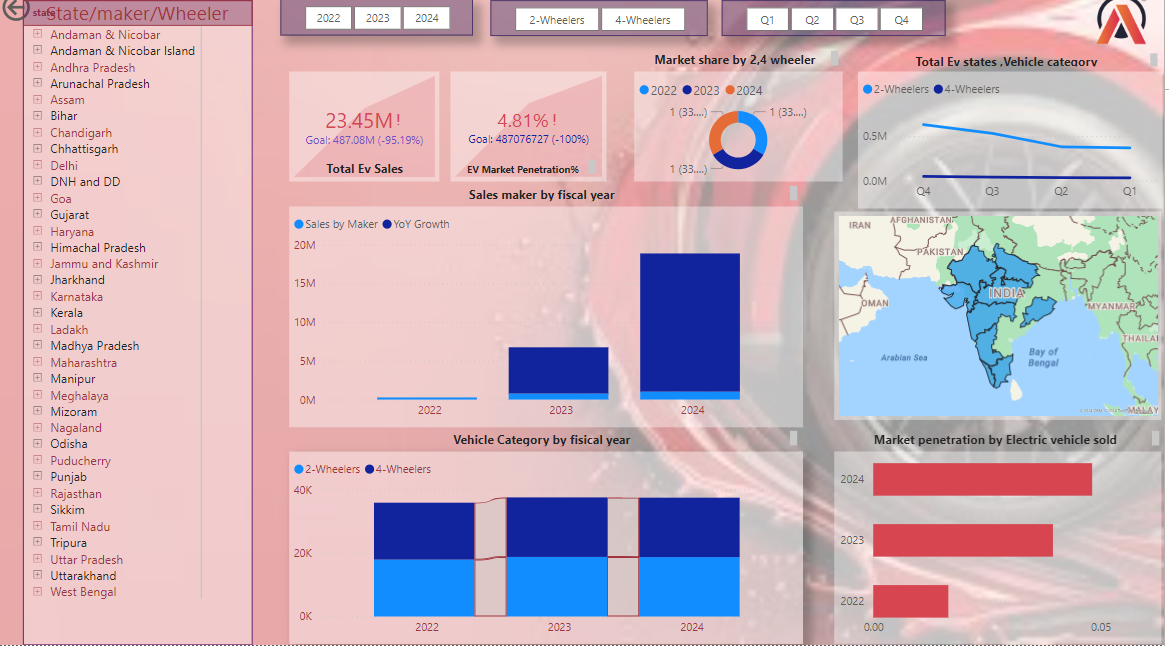

Layout of this report page (visuals, bound fields, positions):
{"tool":"powerbi","page":{"name":"Anlysis","canvas":[1280,720],"ordinal":0},"visuals":[{"type":"slicer","fields":{"Values":["electric_vehicle_sales_by_state.vehicle_category"]},"box":[540.5,12.2,238.5,39.1],"z":0},{"type":"slicer","fields":{"Values":["dim_date.fiscal_year"]},"box":[310.6,11,211.6,40.4],"z":1000},{"type":"slicer","fields":{"Values":["dim_date.quarter"]},"box":[794.8,12.2,245.8,39.1],"z":2000},{"type":"lineChart","fields":{"Y":["Measure.Total Ev sales by state"],"Category":["dim_date.quarter"],"Series":["electric_vehicle_sales_by_makers.vehicle_category"]},"box":[944,90.5,333.8,145.5],"z":3000},{"type":"columnChart","fields":{"Category":["dim_date.fiscal_year"],"Y":["CountNonNull(electric_vehicle_sales_by_state.vehicle_category)"],"Series":["electric_vehicle_sales_by_makers.vehicle_category"]},"box":[319.7,507.7,564,211.3],"z":4000},{"type":"barChart","fields":{"Category":["dim_date.fiscal_year"],"Y":["Measure.Market Penetration"]},"box":[918.3,507.5,359.5,211.6],"z":5000},{"type":"donutChart","fields":{"Y":["Measure.Market Share by Maker","Measure.Total 2-wheeler sold","Measure.Total 4-wheeler sold"],"Category":["dim_date.fiscal_year"]},"box":[698.2,90.5,228.7,121.1],"z":6000},{"type":"lineStackedColumnComboChart","fields":{"Y":["Measure.Sales by Maker","Measure.YoY Growth"],"Category":["dim_date.fiscal_year"]},"box":[319.2,238.5,563.7,242.1],"z":7000},{"type":"pivotTable","fields":{"Rows":["electric_vehicle_sales_by_state.state","electric_vehicle_sales_by_state.maker","electric_vehicle_sales_by_state.vehicle_category"]},"box":[28.1,12.2,251.9,708],"z":8000},{"type":"kpi","fields":{"Indicator":["Measure.Total EV Sales"],"Goal":["Measure.Total Vehicle Sales"],"TrendLine":["dim_date.fiscal_year"]},"box":[320.4,90.5,165.1,121.1],"z":9000},{"type":"kpi","fields":{"Indicator":["Measure.EV Market Penetration"],"TrendLine":["dim_date.fiscal_year"],"Goal":["Measure.Total Vehicle Sales"]},"box":[496.7,90.6,171.5,120.8],"z":10000},{"type":"image","box":[1188.6,0,91.7,66],"z":11000},{"type":"azureMap","fields":{"Category":["electric_vehicle_sales_by_state.state"]},"box":[918,244.3,359.5,229.2],"z":12000},{"type":"actionButton","box":[0,0,100,40],"z":13000},{"type":"card","fields":{"Values":["Measure.State/maker/Wheeler"]},"box":[28.1,12.2,251.9,28.1],"z":14000},{"type":"textbox","box":[344.8,182.2,116.2,29.3],"z":15000},{"type":"textbox","box":[498.9,182.2,161.4,29.3],"z":16000},{"type":"textbox","box":[320.4,211.6,562.5,26.9],"z":17000},{"type":"textbox","box":[319.2,480.6,562.5,26.9],"z":18000},{"type":"textbox","box":[918.3,480.6,362,26.9],"z":19000},{"type":"textbox","box":[944,66,333.8,24.5],"z":20000},{"type":"textbox","box":[698.2,63.6,228.7,26.9],"z":21000}]}

Visuals, with their boxes in screenshot pixels (x1, y1, x2, y2), scaled from the page's 1280x720 canvas onto the 1169x646 screenshot:
slicer - electric_vehicle_sales_by_state.vehicle_category: 494, 11, 711, 46
slicer - dim_date.fiscal_year: 284, 10, 477, 46
slicer - dim_date.quarter: 726, 11, 950, 46
lineChart - Measure.Total Ev sales by state x dim_date.quarter: 862, 81, 1167, 212
columnChart - dim_date.fiscal_year x CountNonNull(electric_vehicle_sales_by_state.vehicle_category): 292, 456, 807, 645
barChart - dim_date.fiscal_year x Measure.Market Penetration: 839, 455, 1167, 645
donutChart - Measure.Market Share by Maker x Measure.Total 2-wheeler sold: 638, 81, 847, 190
lineStackedColumnComboChart - Measure.Sales by Maker x Measure.YoY Growth: 292, 214, 806, 431
pivotTable - electric_vehicle_sales_by_state.state x electric_vehicle_sales_by_state.maker: 26, 11, 256, 645
kpi - Measure.Total EV Sales x Measure.Total Vehicle Sales: 293, 81, 443, 190
kpi - Measure.EV Market Penetration x dim_date.fiscal_year: 454, 81, 610, 190
image: 1086, 0, 1168, 59
azureMap - electric_vehicle_sales_by_state.state: 838, 219, 1167, 425
actionButton: 0, 0, 91, 36
card - Measure.State/maker/Wheeler: 26, 11, 256, 36
textbox: 315, 163, 421, 190
textbox: 456, 163, 603, 190
textbox: 293, 190, 806, 214
textbox: 292, 431, 805, 455
textbox: 839, 431, 1168, 455
textbox: 862, 59, 1167, 81
textbox: 638, 57, 847, 81
